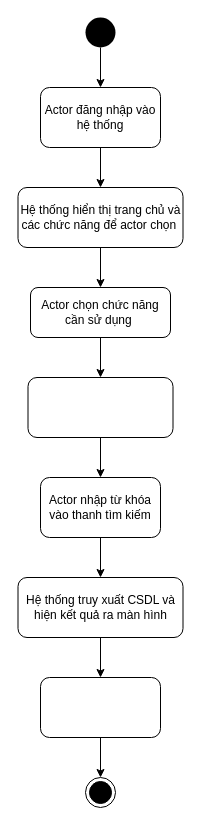
This 200x825 diagram has some shape labels left out. The centre of each missing label's shape, as x and y in pixels:
"Actor xem trang đã hiển thị" goes at (100,707).
"Hệ thống hiển thị trang danh mục của chức năng đã chọn" goes at (100,407).
